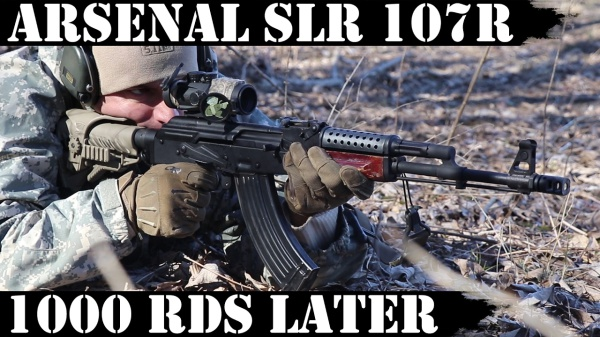ak47: (57, 86, 567, 287)
